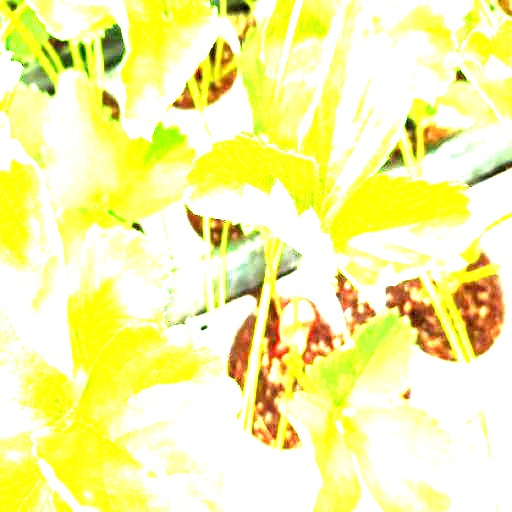Powdery Mildew Leaf: (30, 323, 244, 511), (298, 0, 414, 225), (178, 130, 339, 283), (322, 173, 479, 292), (109, 0, 218, 144)
